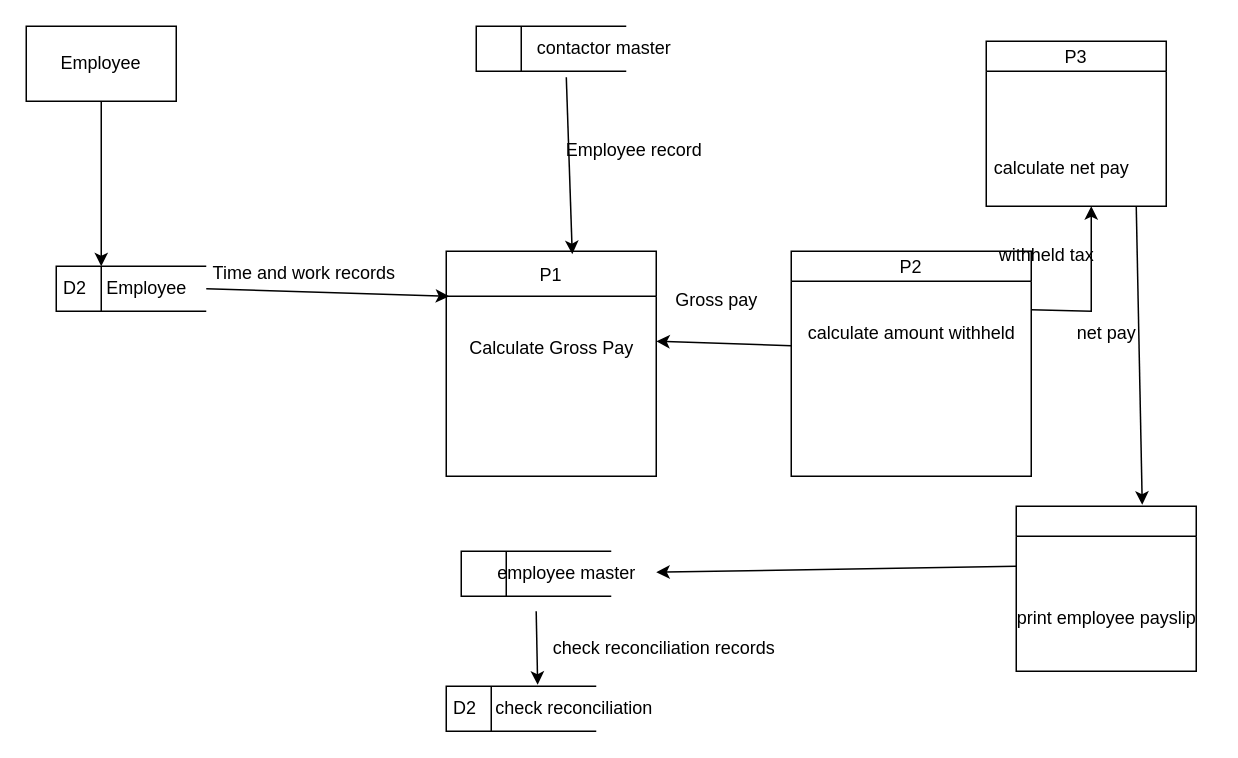
The diagram is 1238 pixels wide and 758 high, and some of its shapes have lost their labels. Each missing label, with the box of its shape:
D1: (475, 25, 626, 71)
D3: (460, 550, 611, 596)
P4: (1015, 505, 1196, 671)
